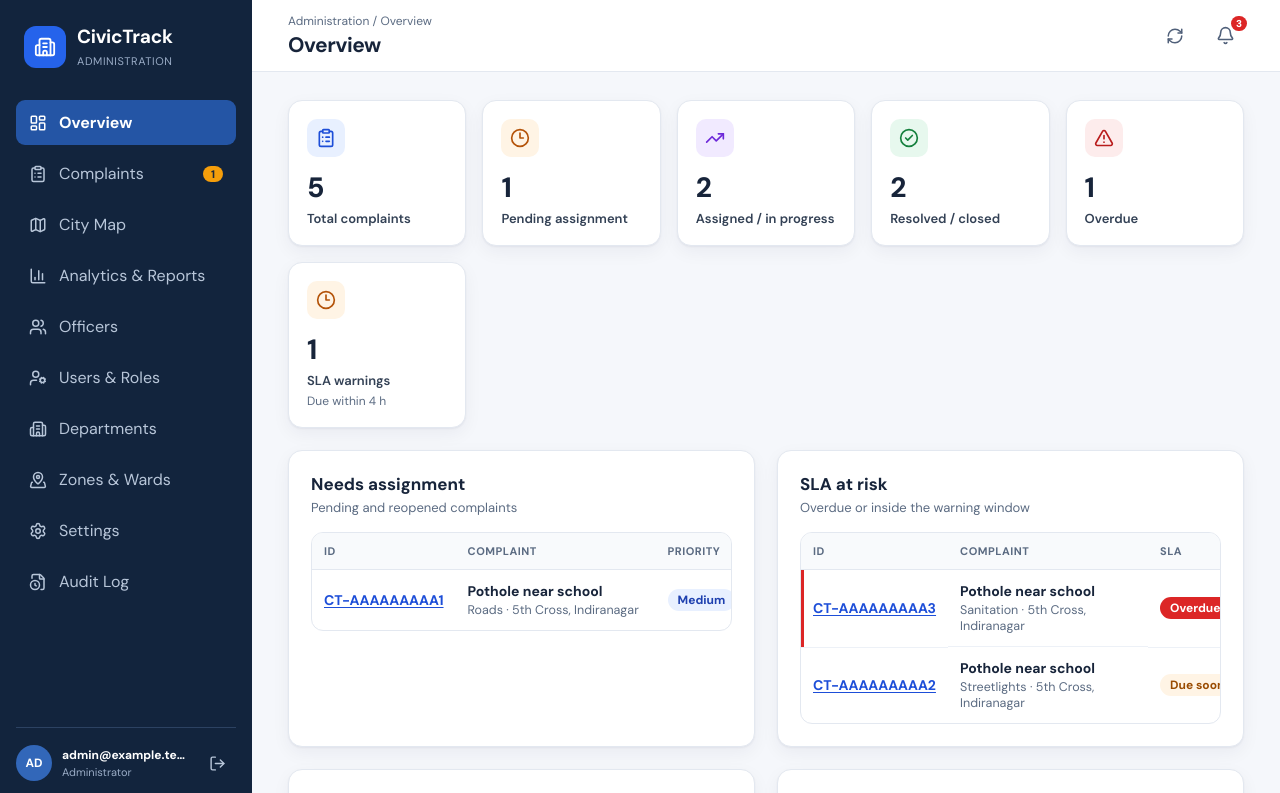
Test: admin dashboard › filters complaints and shows the officer workload
The width and height of the screenshot is (1280, 793).
Click the button "Complaints 1" at point(126, 174), box [16, 151, 236, 196]
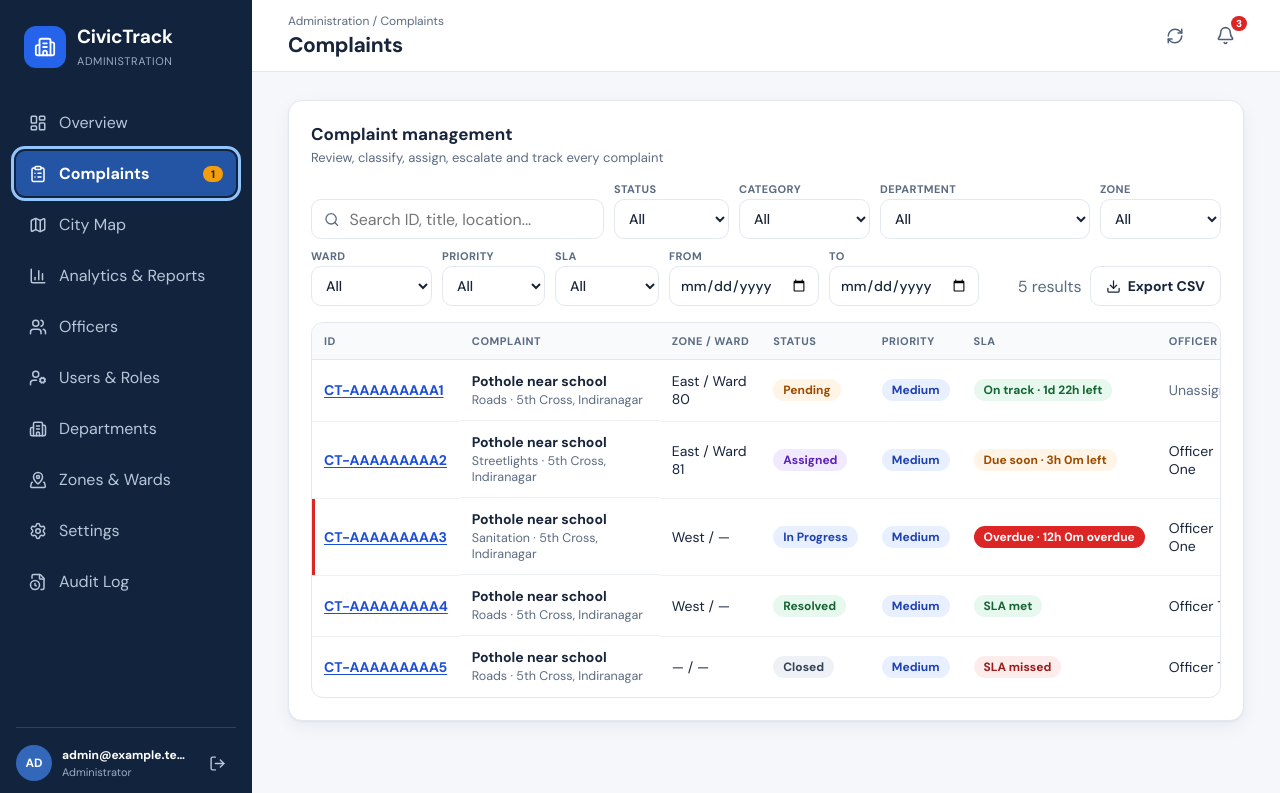
Select "In Progress" in the dropdown labelled "Status" at point(672, 219), box [614, 199, 729, 239]
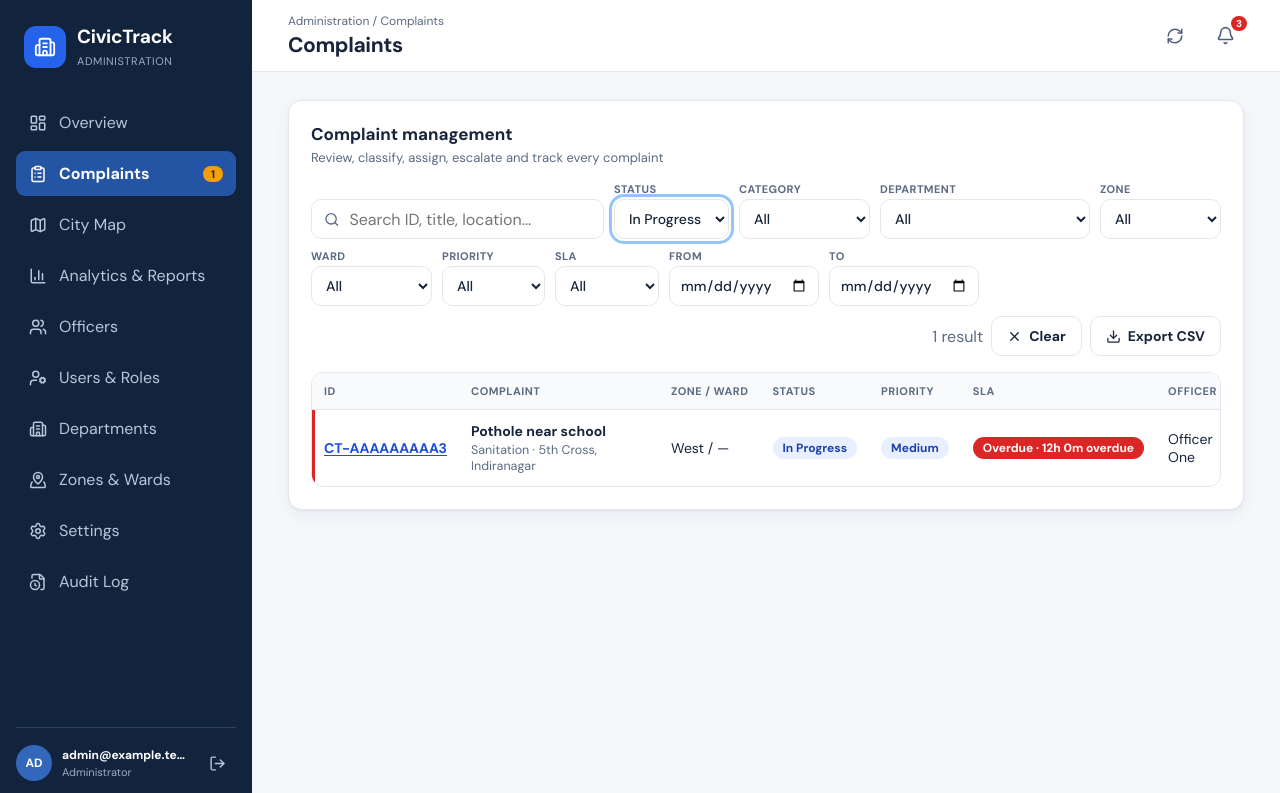
expect the text "1 result" is shown: met, box [932, 326, 983, 346]
Click the button "Officers" at point(126, 326), box [16, 304, 236, 349]
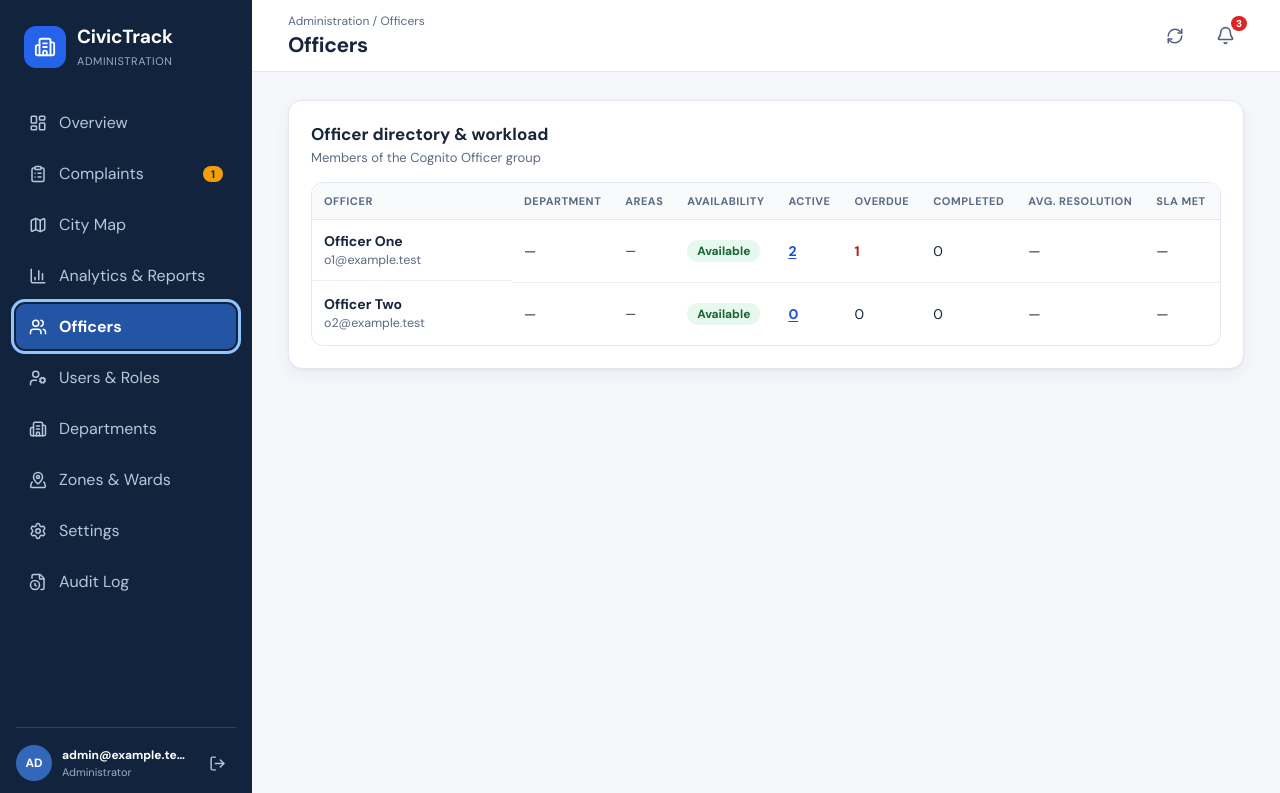
expect the cell "2" is shown: met, box [776, 220, 842, 282]
